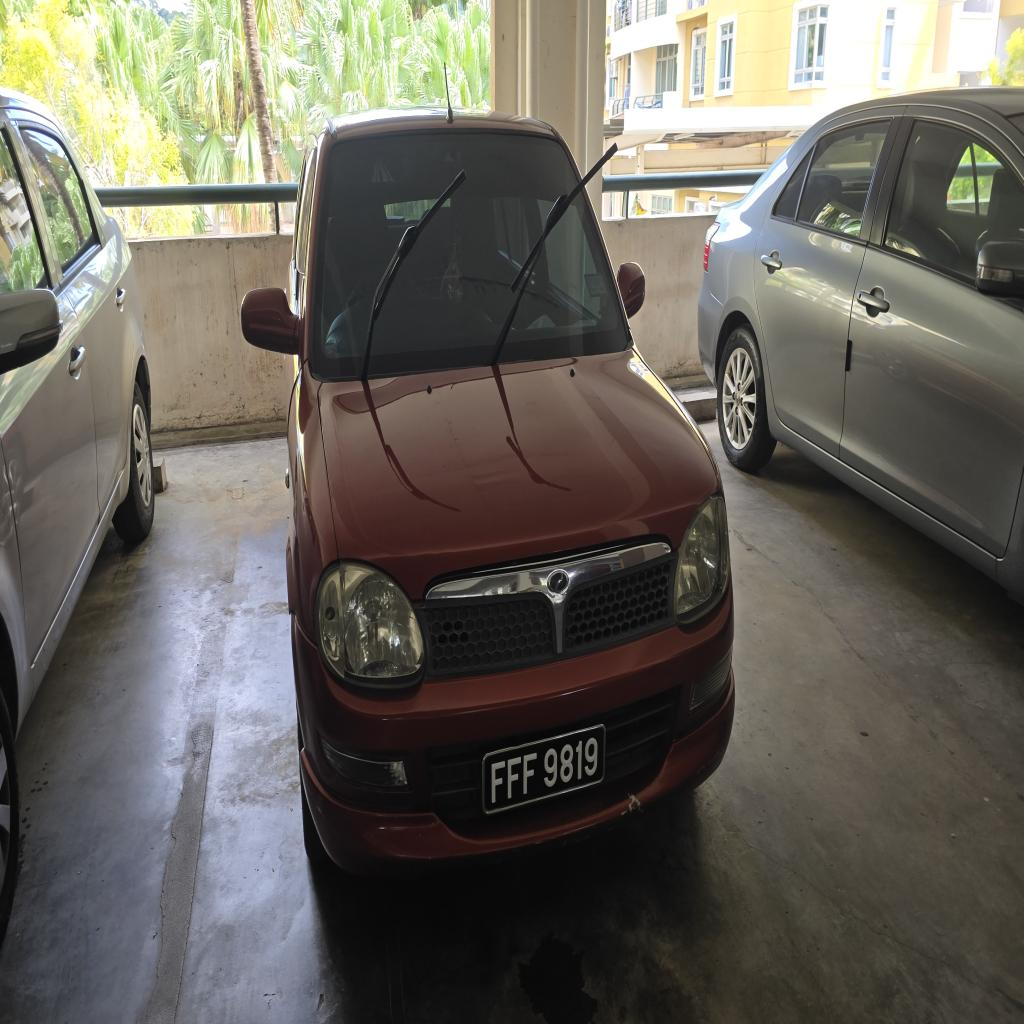car: (242, 110, 734, 872)
car plate: (482, 725, 605, 814)
